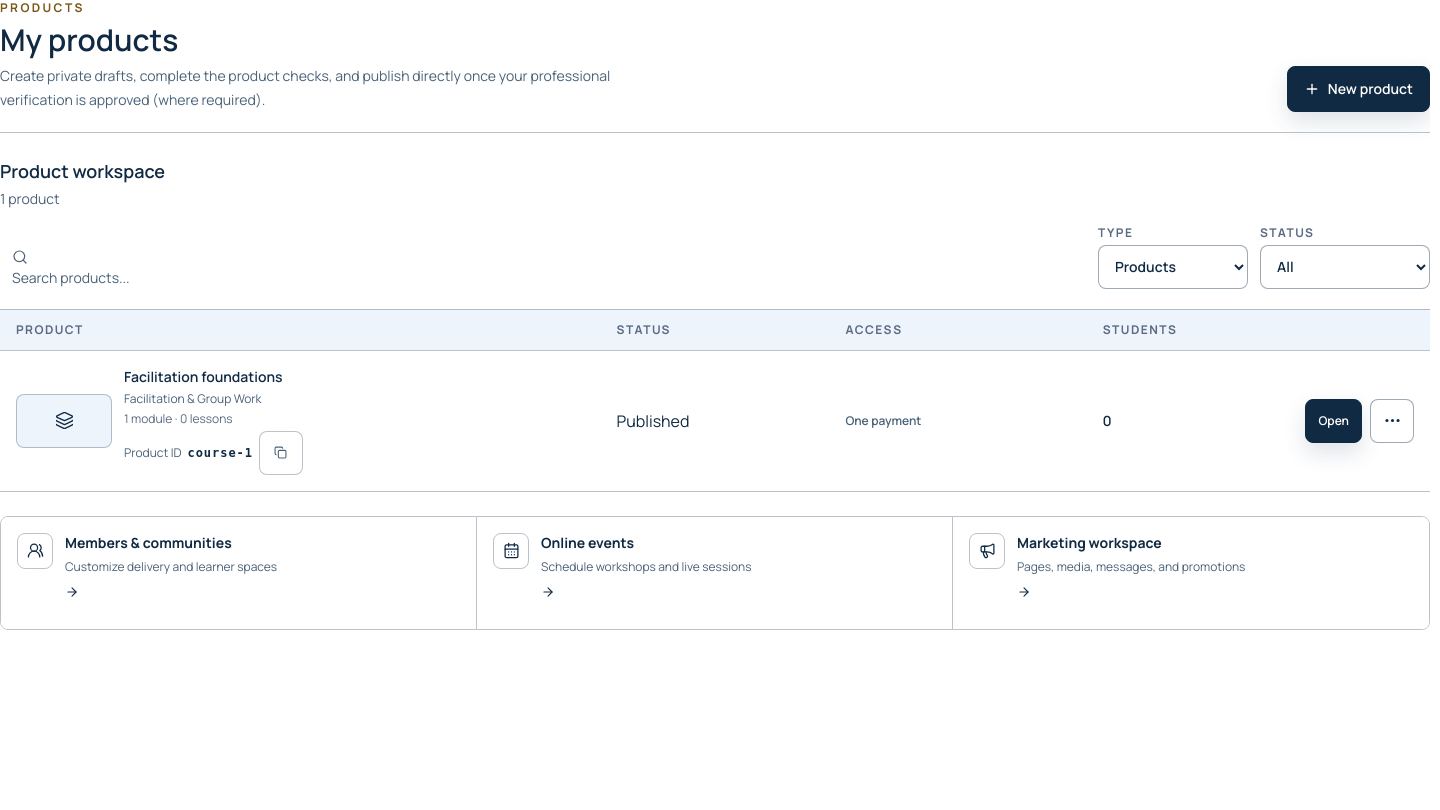
Test case: hub do curso — entrada de excluir/arquivar › a lista de produtos abre a mesma ação, mesmo com o curso publicado
Click the button named "More actions for Facilitation foundations" at (1392, 420), box [1370,398,1414,442]
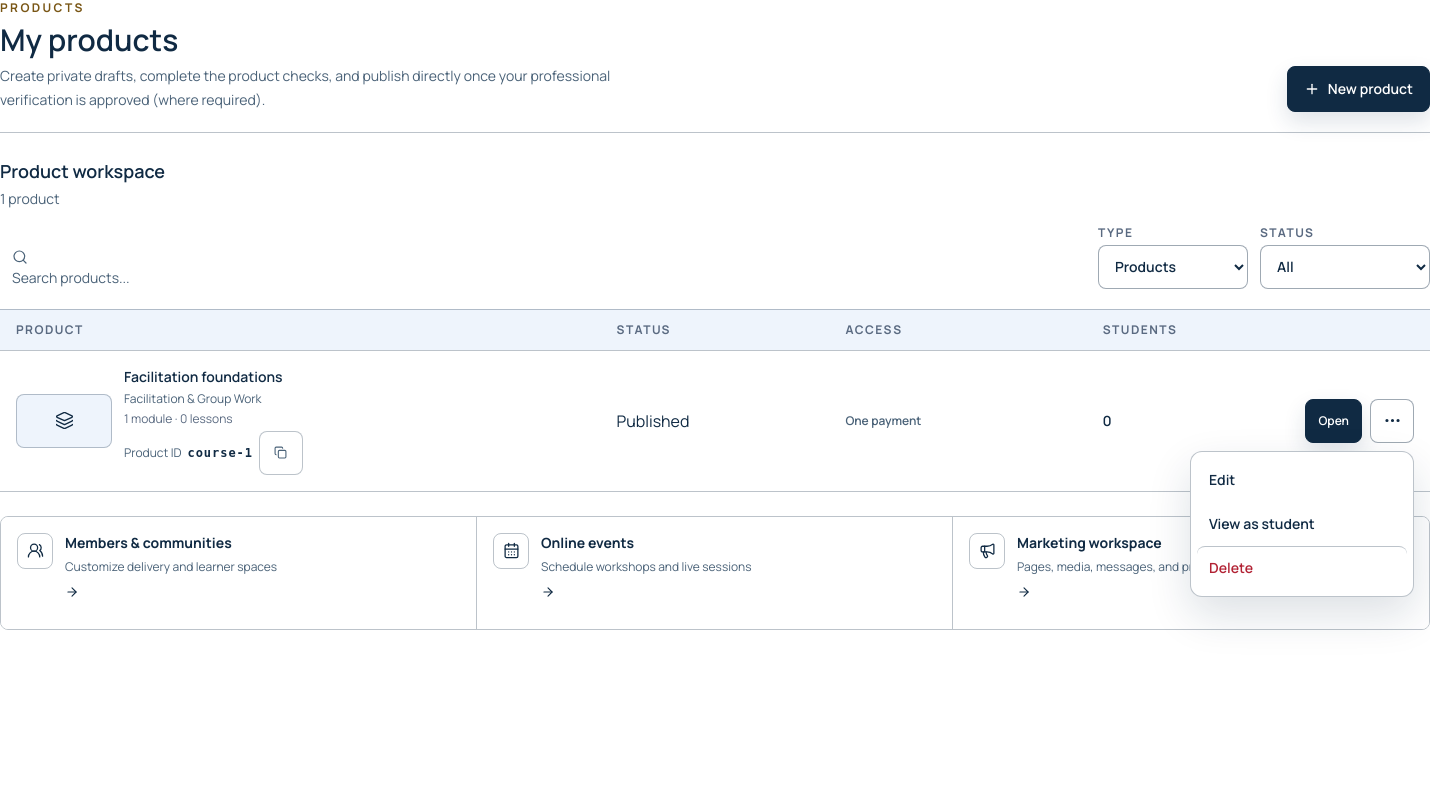
Click the menu item "Delete" at (1302, 568), box [1197,546,1407,590]
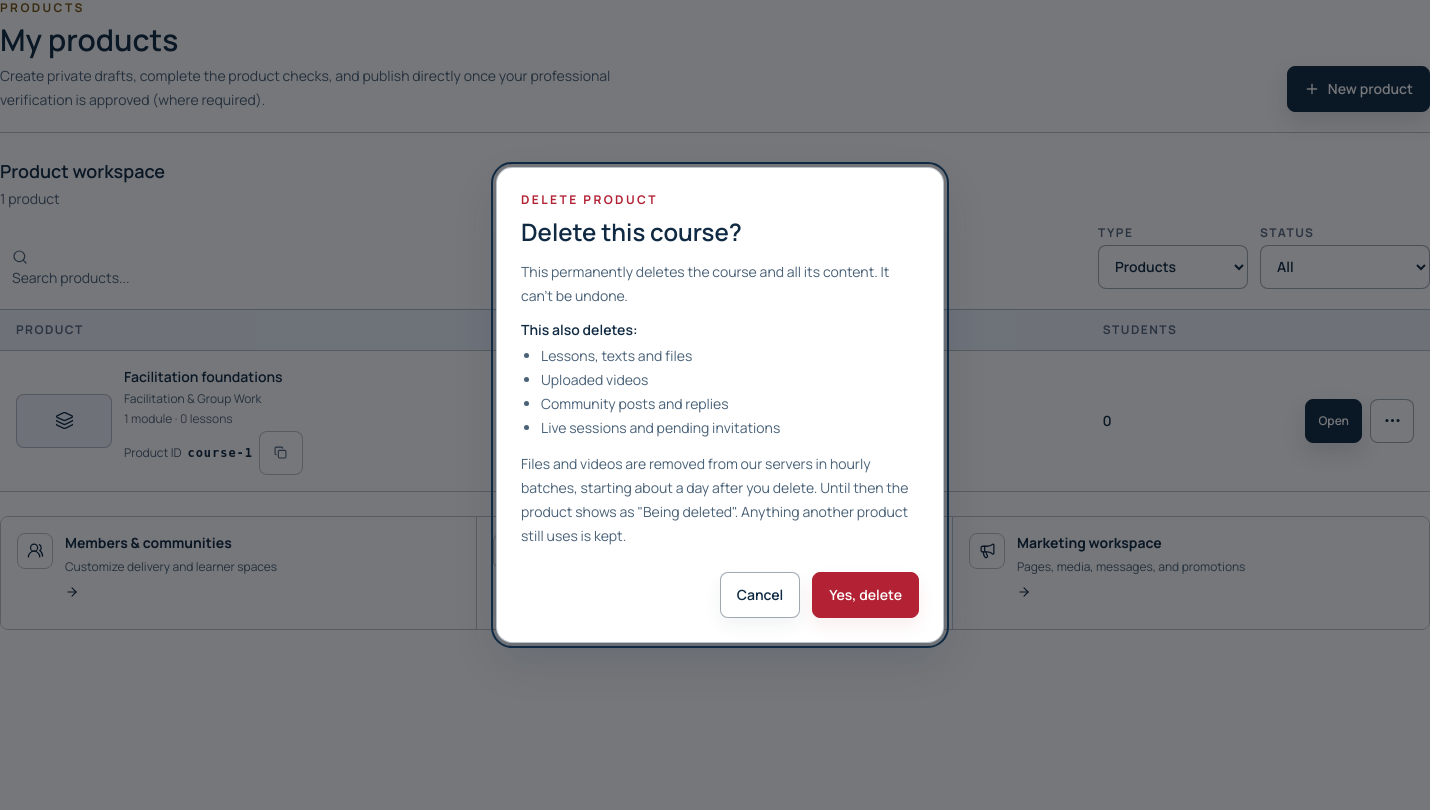
Check: the dialog named "Delete Facilitation foundations" is shown, box [496,167,944,643]
